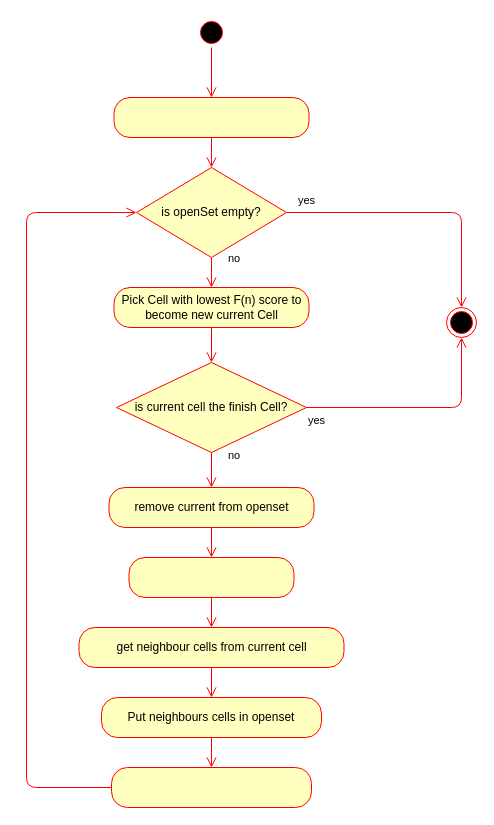
Some shapes in this 494 by 825 pixel diagram are drawn without their labels. The shapes that lost their labels are listed below. From the top down, each one's box as (x1, y1, x2, y2) in pixels, then its label:
(113, 96, 309, 138): Put starting cell in openSet
(128, 556, 294, 598): add current to closedset
(110, 766, 312, 808): construct current quickest path
